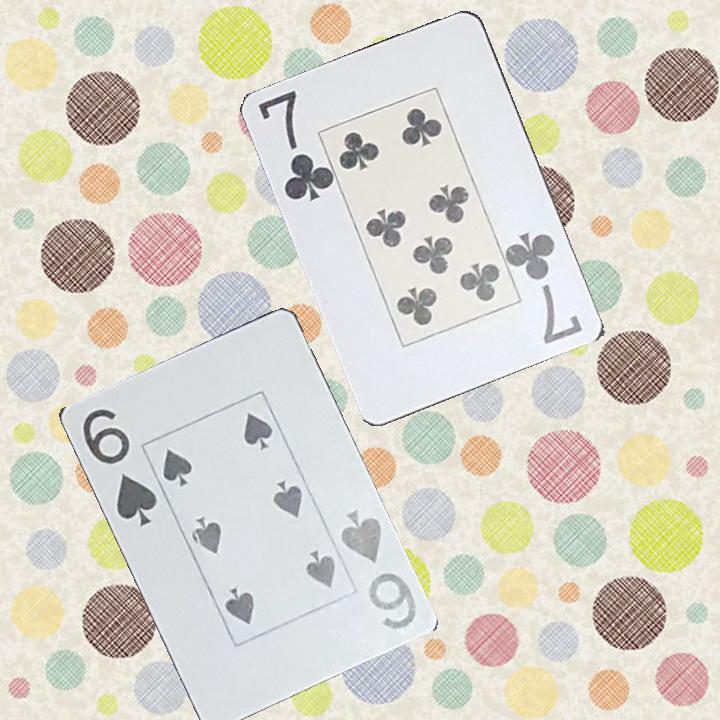6s: (336, 505, 419, 632), (78, 405, 160, 530)
7c: (255, 86, 337, 205), (505, 228, 586, 347)
